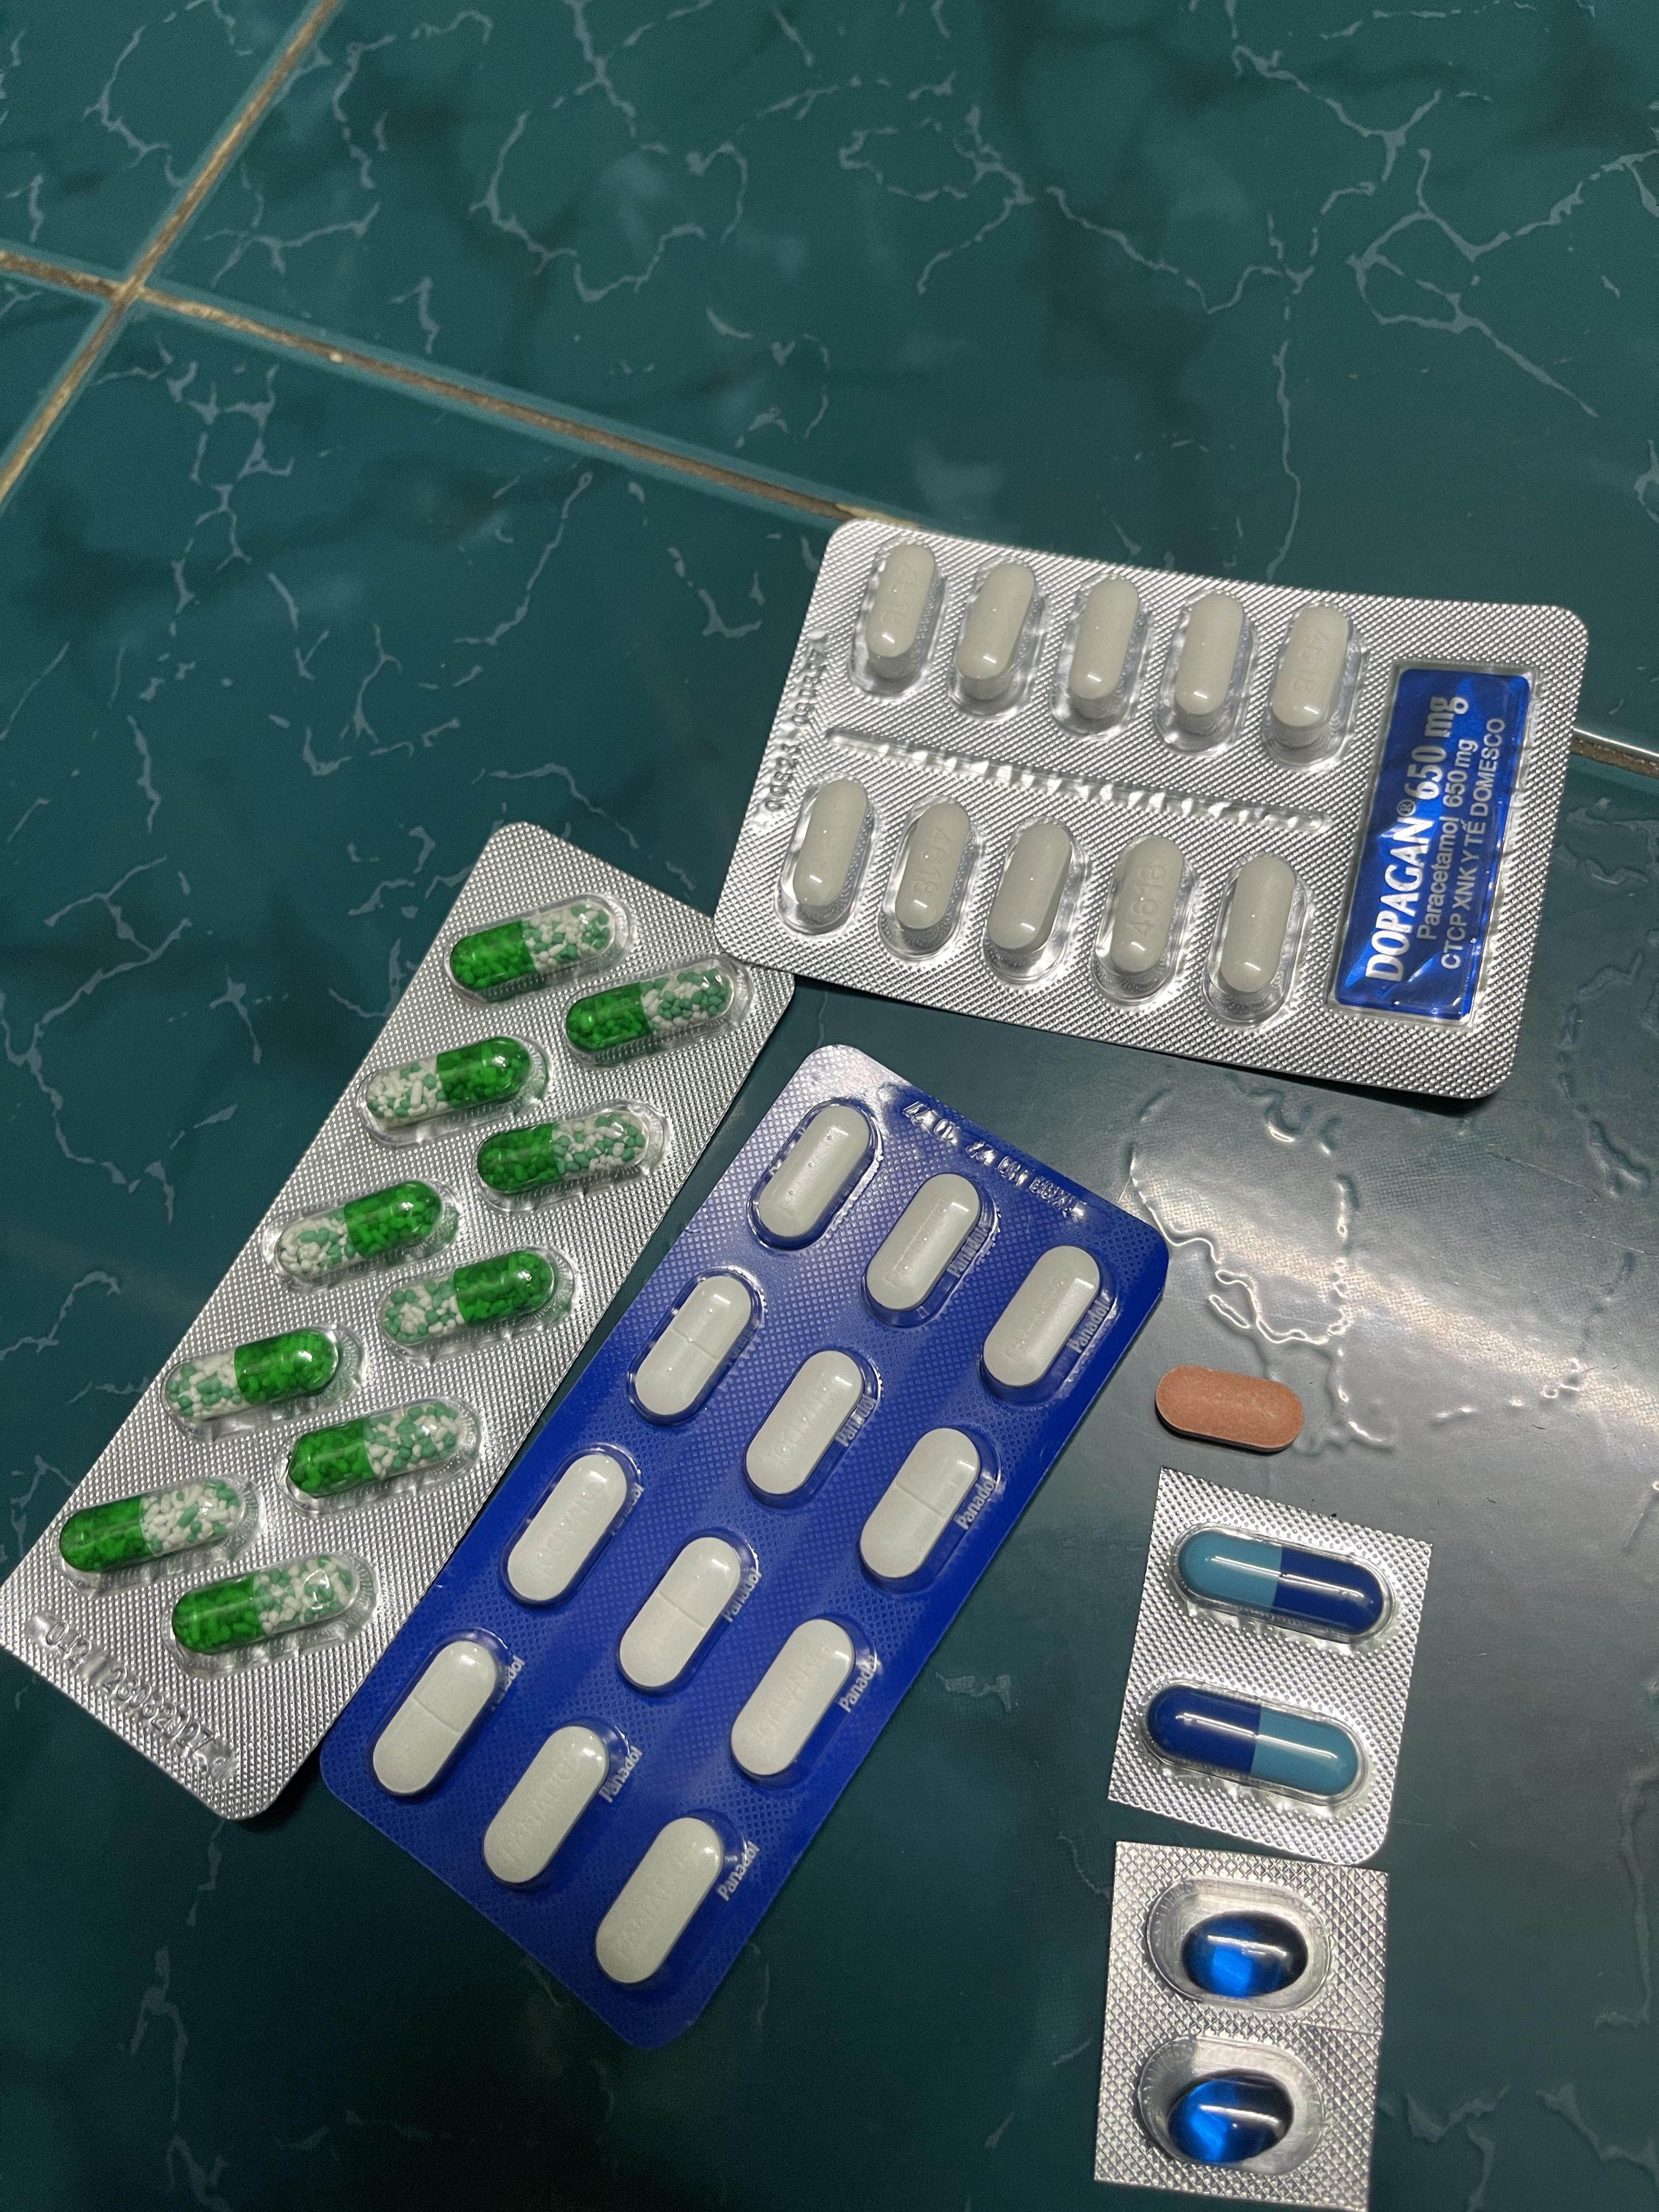Lincomyxin_500mg: (1169, 2078, 1290, 2165), (1182, 1914, 1305, 1998)
Loratadine_10mg: (1154, 1362, 1305, 1454)
Paracetamol_350mg: (596, 1811, 735, 1989), (369, 1632, 511, 1803), (483, 1723, 622, 1892), (730, 1615, 863, 1787), (619, 1531, 753, 1696), (859, 1423, 990, 1587), (504, 1449, 638, 1608), (742, 1345, 873, 1507), (631, 1268, 762, 1428), (979, 1245, 1103, 1399), (864, 1170, 988, 1320), (753, 1101, 873, 1245)
Paracetamol_500mg: (1091, 833, 1187, 1003), (880, 796, 978, 953), (988, 819, 1077, 967), (953, 557, 1040, 707), (1215, 852, 1297, 993), (789, 784, 873, 918), (1269, 603, 1349, 740), (1171, 592, 1248, 732), (1066, 578, 1143, 716), (863, 543, 938, 674)
Paracetamol_650mg: (171, 1555, 369, 1662), (58, 1474, 251, 1575), (164, 1325, 349, 1428), (385, 1249, 565, 1350), (274, 1183, 451, 1282), (284, 1404, 469, 1498), (357, 1038, 537, 1130), (476, 1111, 652, 1198), (453, 906, 617, 995), (566, 965, 734, 1050)
pill: (1154, 1686, 1364, 1806), (1187, 1534, 1391, 1641)
